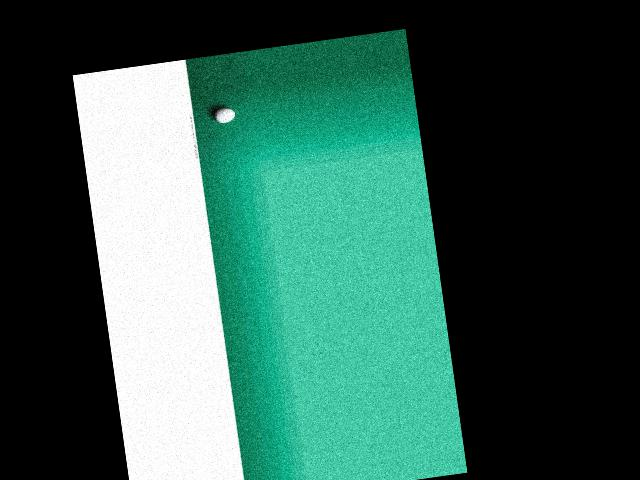egg: (213, 107, 235, 125)
